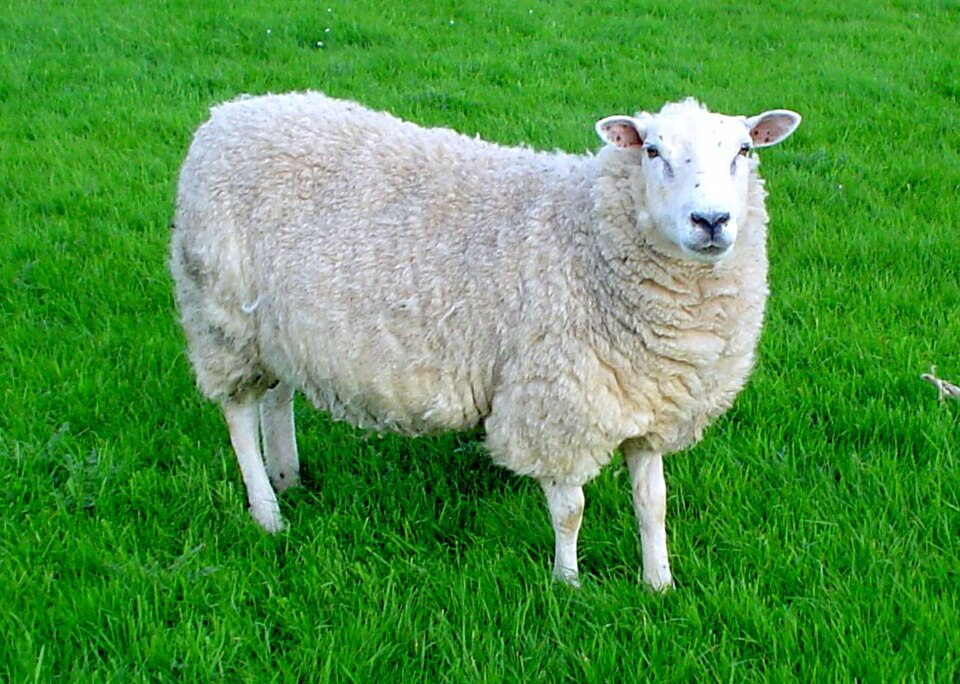sheep: (156, 86, 777, 573)
